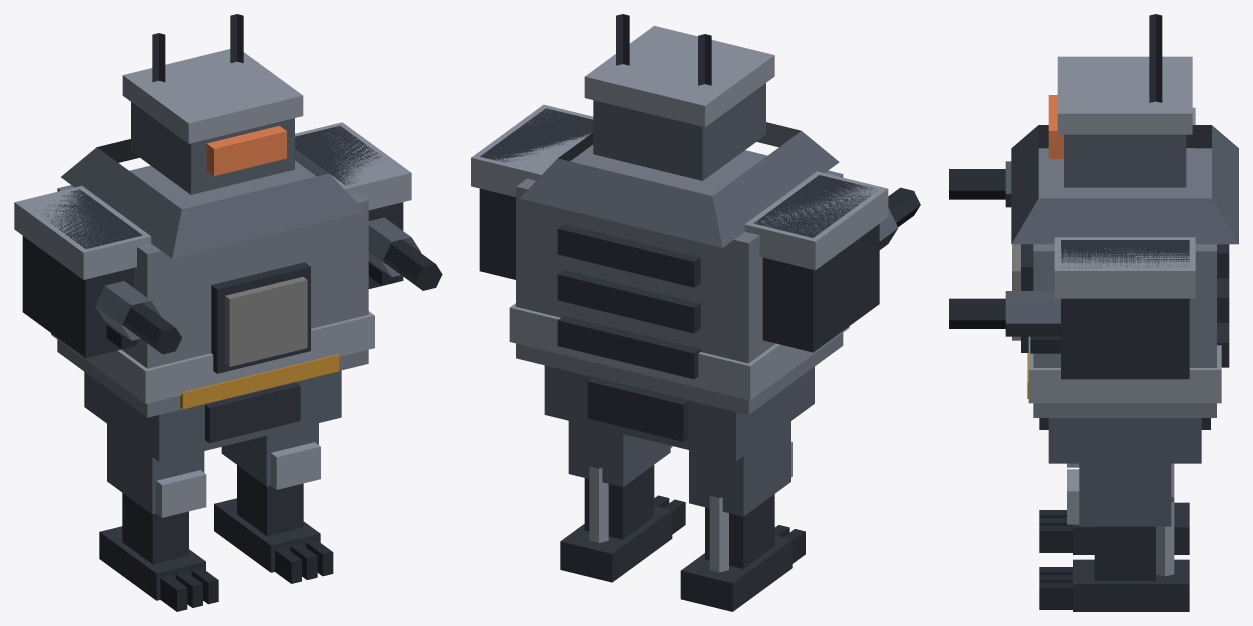
The model's file is heavy-walk-0.obj.
The picture shows the model from 3 angles, left to right: view 1: azimuth 30°, elevation 25°; view 2: azimuth 150°, elevation 25°; view 3: azimuth 270°, elevation 25°; orthographic projection. The views are drawn at different scales.
Parts seen in each view (by area): view 1: heavy-walk-0; view 2: heavy-walk-0; view 3: heavy-walk-0.
Part boxes in pixels (<box>): heavy-walk-0: <box>14,14,442,611</box>; heavy-walk-0: <box>471,14,920,611</box>; heavy-walk-0: <box>949,14,1238,611</box>.
Bounding box in the file's own units: 2.52 × 3.85 × 1.89.
